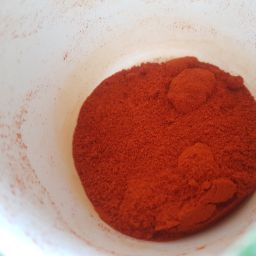Red chilli: (51, 48, 256, 245), (99, 88, 240, 198), (120, 109, 237, 232)
